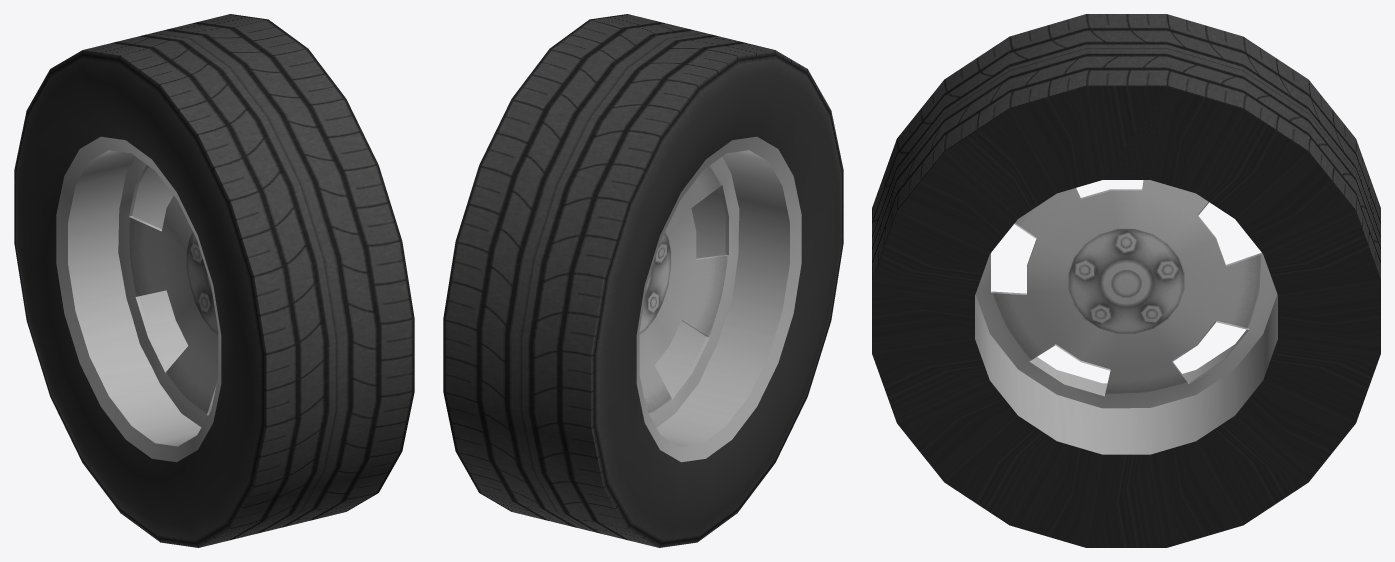
Rendered from GTO_Alloy03.fbx.
3 renders of one model, left to right at view 1: azimuth 30°, elevation 25°; view 2: azimuth 150°, elevation 25°; view 3: azimuth 270°, elevation 25°, orthographic.
Visible parts, largest first — view 1: Empty_Mesh; view 2: Empty_Mesh; view 3: Empty_Mesh.
Part boxes in pixels (left/top/right/bottom): Empty_Mesh: left=14, top=14, right=414, bottom=547; Empty_Mesh: left=443, top=14, right=843, bottom=547; Empty_Mesh: left=872, top=14, right=1380, bottom=547.
Size of the model in its own units: 24.66 by 68 by 68.
